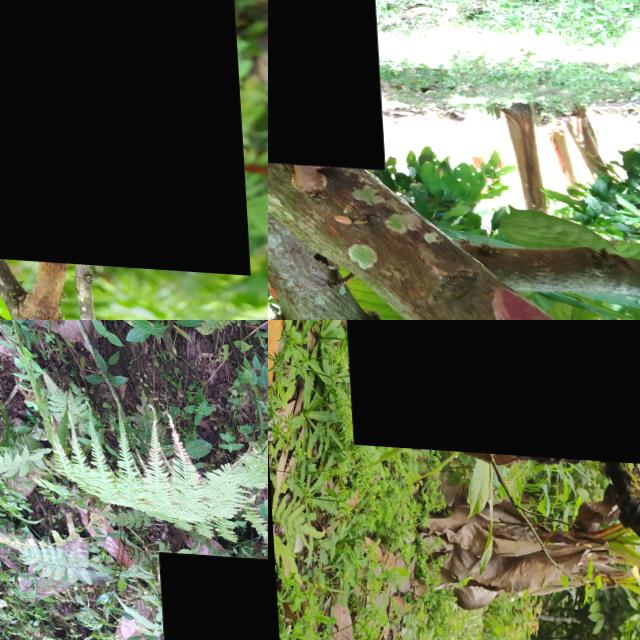Fitoftora: (0, 0, 244, 269), (268, 0, 381, 166), (470, 272, 640, 320)
Monilia: (342, 320, 640, 459)
